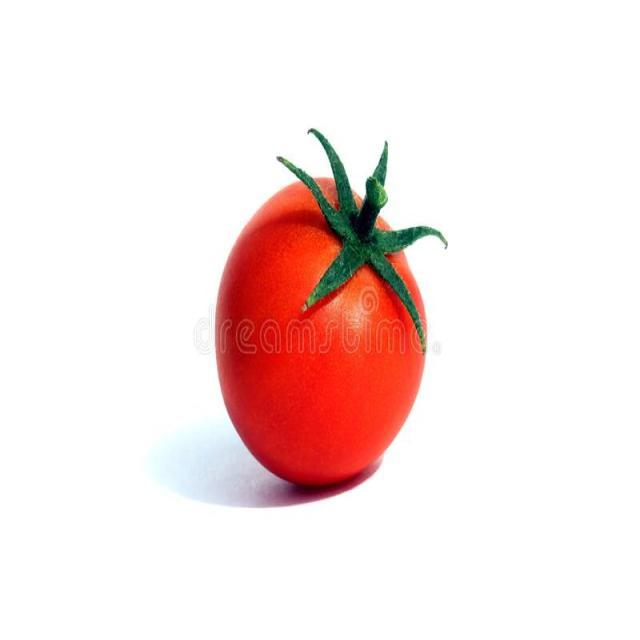kirmizi: (212, 160, 434, 500)
